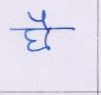ai_matra: (28, 11, 52, 28)
